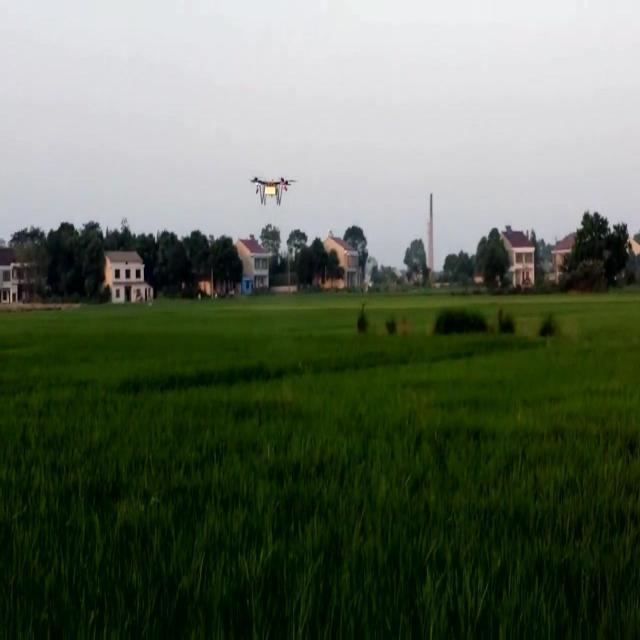drone: (250, 173, 302, 211)
